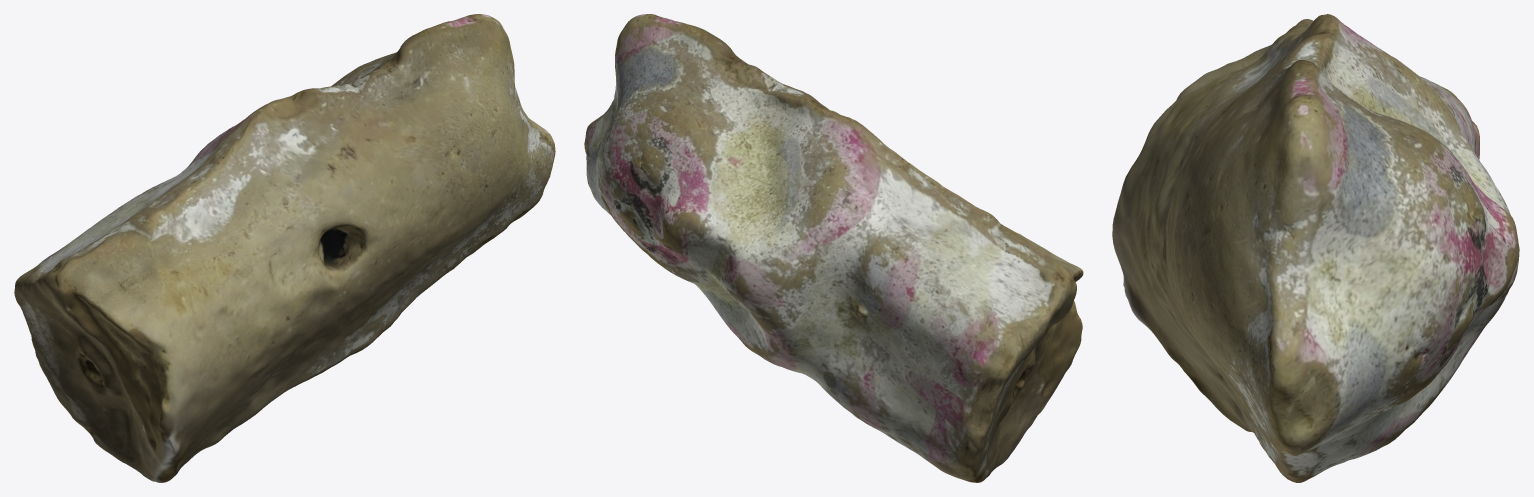
3 views of the same model, side by side, from view 1: azimuth 30°, elevation 25°; view 2: azimuth 150°, elevation 25°; view 3: azimuth 270°, elevation 25° (orthographic). The views are drawn at different scales.
Bounding box in the file's own units: 0.7816 × 0.5637 × 0.3558.
1 material, 1 textured.
